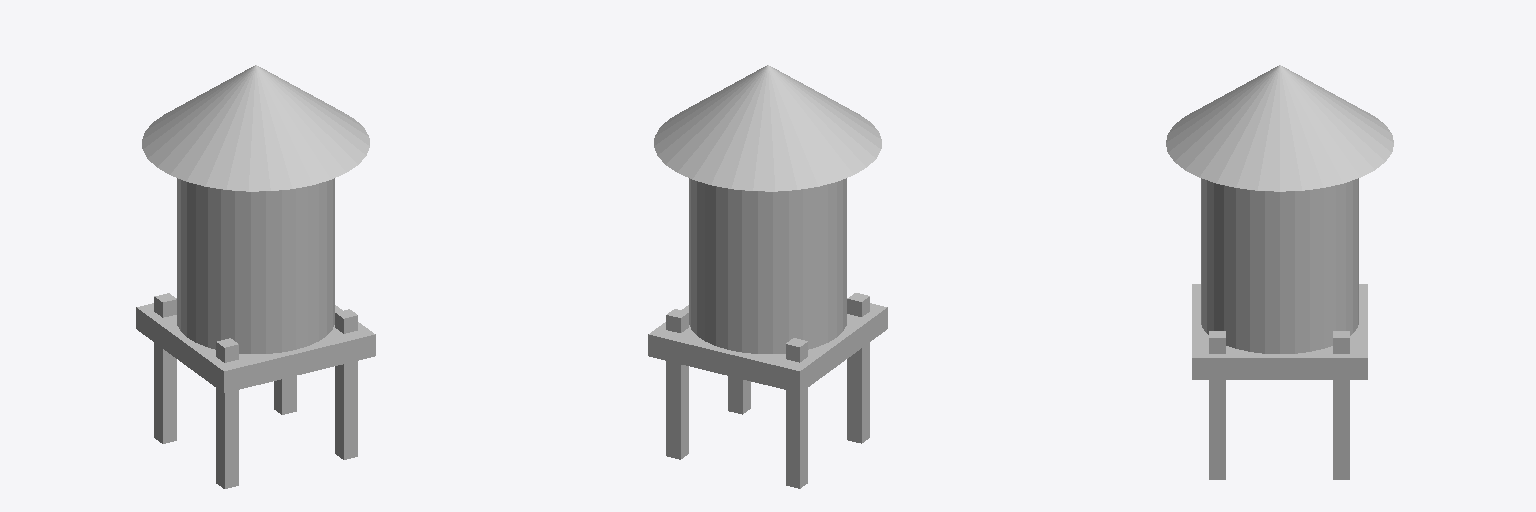
File: watertower.obj
The picture shows the model from 3 angles: view 1: azimuth 30°, elevation 25°; view 2: azimuth 150°, elevation 25°; view 3: azimuth 270°, elevation 25°; orthographic projection.
Visible parts, largest first — view 1: Cone; view 2: Cone; view 3: Cone.
Boxes of the visible parts, x1,y1,x2,y2 form: Cone: [136, 65, 375, 488]; Cone: [648, 65, 887, 488]; Cone: [1166, 65, 1393, 479].
Bounding box in the file's own units: 4.08 × 7.53 × 4.08.